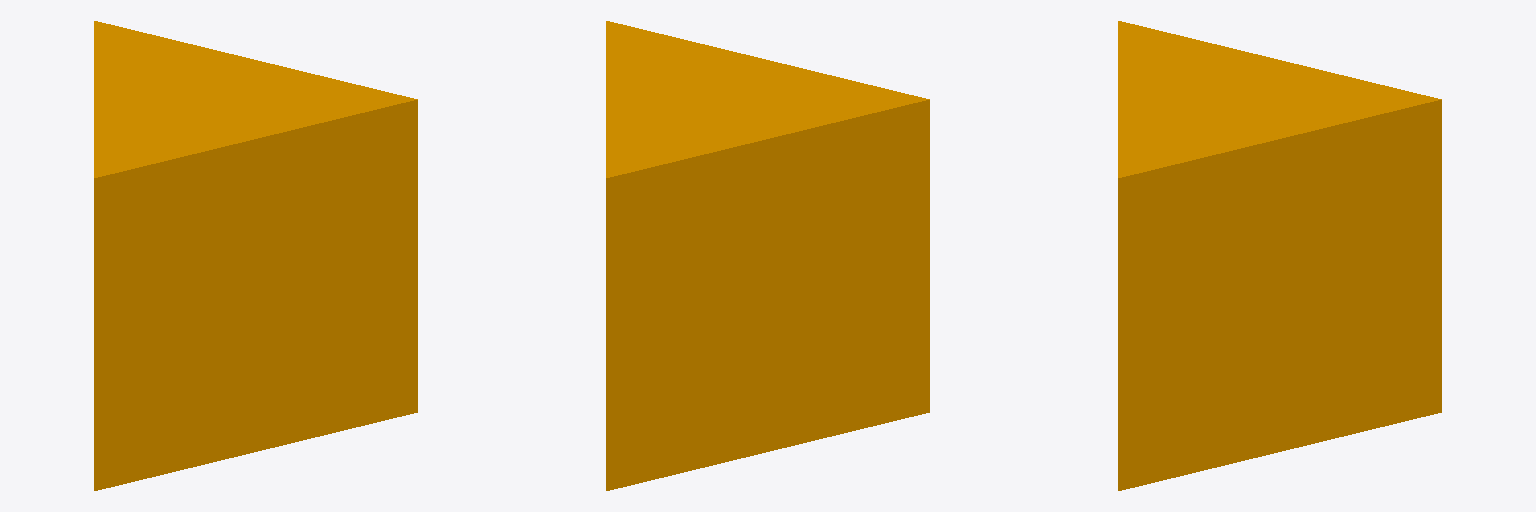
robot.urdf — triangle:
<?xml version="1.0"?>
<robot name="triangle">
  <link name="triangle">
    <visual>
      <origin xyz="0 0 0"/>
      <geometry>
        <mesh filename="./triangle.stl"/>
      </geometry>
    </visual>
    <collision>
      <origin xyz="0 0 0"/>
      <geometry>
        <mesh filename="./triangle.stl"/>
      </geometry>
    </collision>
    <inertial>
      <mass value="0.5"/>
      <inertia ixx="0.05" ixy="0.0" ixz="0.0" iyy="0.05" iyz="0.0" izz="0.05"/>
    </inertial>
  </link>
</robot>

--- Render facts (derived) ---
3 views of the same robot in one strip: view 1: azimuth 30°, elevation 25°; view 2: azimuth 150°, elevation 25°; view 3: azimuth 270°, elevation 25° (orthographic).
Robot: triangle — 1 links, 0 joints (none); root link triangle; default pose: every joint at zero.
Links seen in each view (by area): view 1: triangle; view 2: triangle; view 3: triangle.
Boxes of the visible links, x1,y1,x2,y2 form: triangle: [94, 21, 417, 490]; triangle: [606, 21, 929, 490]; triangle: [1118, 21, 1441, 490].
Bounding box of the posed robot: 0.866 × 0.75 × 0.8 m (x, y, z).
Meshes: 1 distinct files referenced, 1 mesh visuals loaded (1 binary STL).